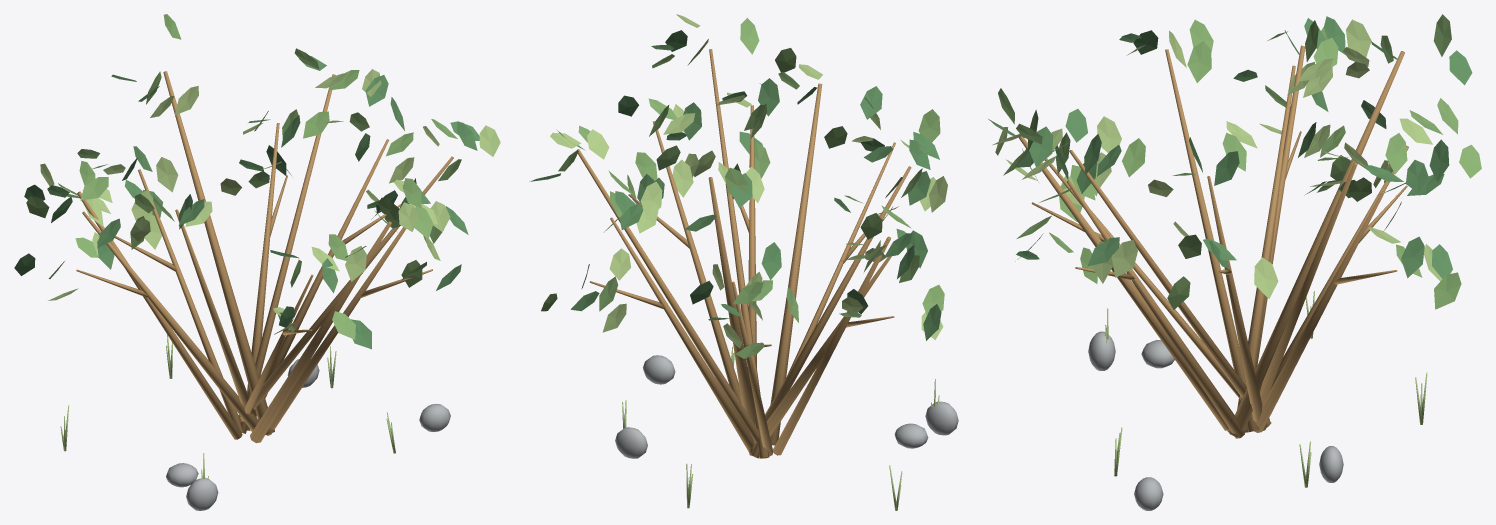
File: green_bush_b.glb
3 renders of one model, left to right at view 1: azimuth 30°, elevation 25°; view 2: azimuth 150°, elevation 25°; view 3: azimuth 270°, elevation 25°, orthographic. The views are drawn at different scales.
Visible parts, largest first — view 1: green_bush_b_stem_3, green_bush_b_stem_9, green_bush_b_stem_6, green_bush_b_stem_1, green_bush_b_stem_5, green_bush_b_stem_2, green_bush_b_stem_10, green_bush_b_stem_11, green_bush_b_stem_0, green_bush_b_stem_4, green_bush_b_stem_7, bush_ground_rock_1 (+3 smaller); view 2: green_bush_b_stem_9, green_bush_b_stem_1, green_bush_b_stem_2, green_bush_b_stem_3, green_bush_b_stem_11, green_bush_b_stem_7, green_bush_b_stem_0, green_bush_b_stem_5, green_bush_b_stem_6, green_bush_b_stem_8, green_bush_b_stem_4, green_bush_b_stem_10 (+9 smaller); view 3: green_bush_b_stem_3, green_bush_b_stem_7, green_bush_b_stem_10, green_bush_b_stem_9, green_bush_b_stem_2, green_bush_b_stem_6, green_bush_b_stem_11, green_bush_b_stem_1, green_bush_b_stem_0, green_bush_b_stem_8, green_bush_b_stem_5, green_bush_b_stem_4 (+16 smaller).
Boxes of the visible parts, x1,y1,x2,y2 form: green_bush_b_stem_3: (163,71,274,434); green_bush_b_stem_9: (250,221,391,443); green_bush_b_stem_6: (82,211,258,431); green_bush_b_stem_1: (240,74,335,433); green_bush_b_stem_5: (77,191,242,439); green_bush_b_stem_2: (247,123,279,428); green_bush_b_stem_10: (266,227,405,435); green_bush_b_stem_11: (238,156,453,422); green_bush_b_stem_0: (247,139,389,430); green_bush_b_stem_4: (138,169,242,432); green_bush_b_stem_7: (175,209,256,431); bush_ground_rock_1: (186,478,218,510); green_bush_b_stem_9: (770,83,822,445); green_bush_b_stem_1: (577,149,759,443); green_bush_b_stem_2: (610,217,754,455); green_bush_b_stem_3: (708,177,755,424); green_bush_b_stem_11: (709,49,769,458); green_bush_b_stem_7: (765,166,911,421); green_bush_b_stem_0: (653,121,755,455); green_bush_b_stem_5: (773,236,890,455); green_bush_b_stem_6: (766,256,891,436); green_bush_b_stem_8: (751,142,895,458); green_bush_b_stem_4: (732,281,773,456); green_bush_b_stem_10: (747,105,756,372); green_bush_b_stem_3: (1227,51,1404,437); green_bush_b_stem_7: (1165,49,1259,432); green_bush_b_stem_10: (1067,180,1245,438); green_bush_b_stem_9: (1019,136,1228,430); green_bush_b_stem_2: (1254,191,1384,432); green_bush_b_stem_6: (1237,65,1295,432); green_bush_b_stem_11: (1069,150,1269,420); green_bush_b_stem_1: (1260,162,1357,403); green_bush_b_stem_0: (1207,176,1266,431); green_bush_b_stem_8: (1027,139,1271,427); green_bush_b_stem_5: (1256,45,1305,367); green_bush_b_stem_4: (1270,145,1408,389).
Size of the model in its own units: 1.23 by 1.14 by 1.23.
